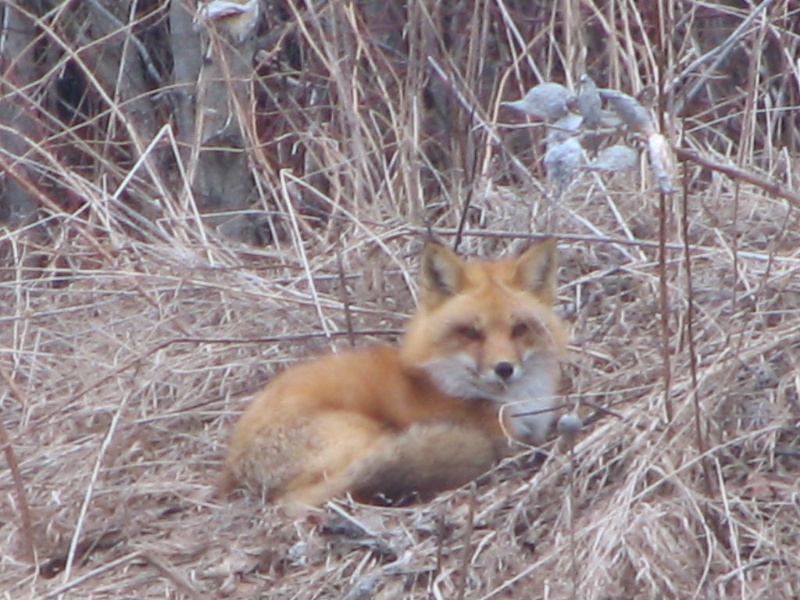fox: (211, 231, 575, 520)
